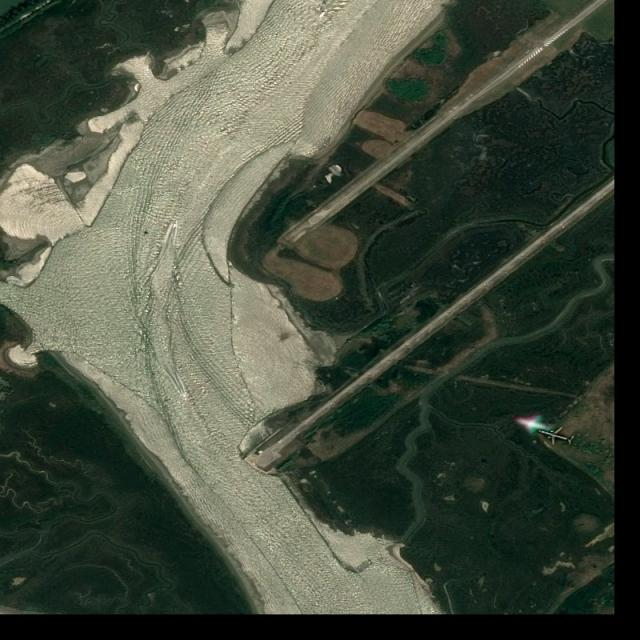ship: (318, 7, 329, 20), (181, 392, 189, 402), (173, 221, 178, 229)
